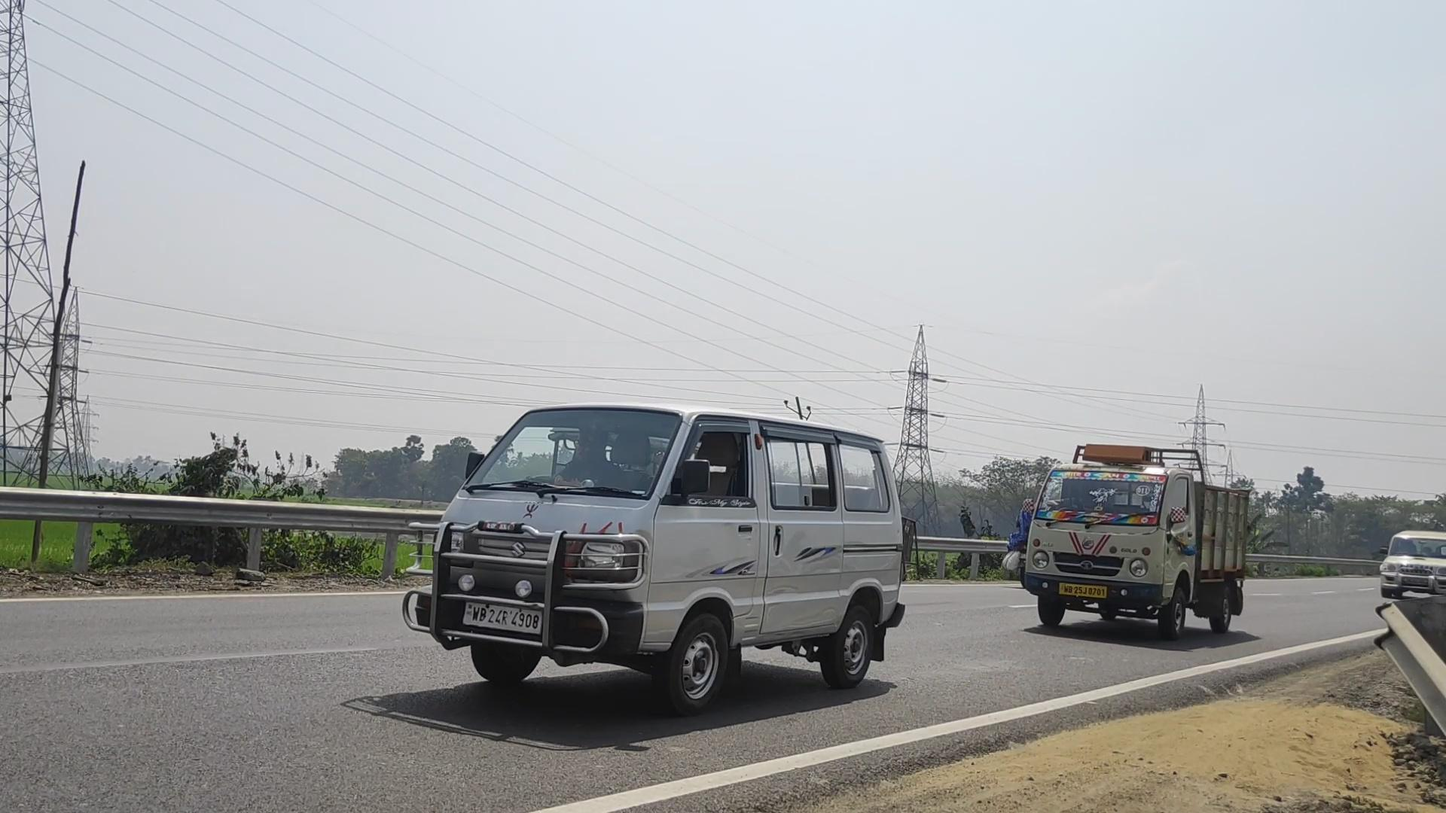car: (1378, 528, 1446, 603)
van: (403, 401, 905, 718), (1023, 444, 1252, 643)
